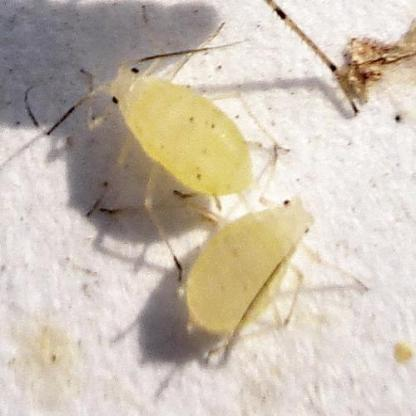aphid: (165, 170, 355, 364), (81, 21, 265, 217)
